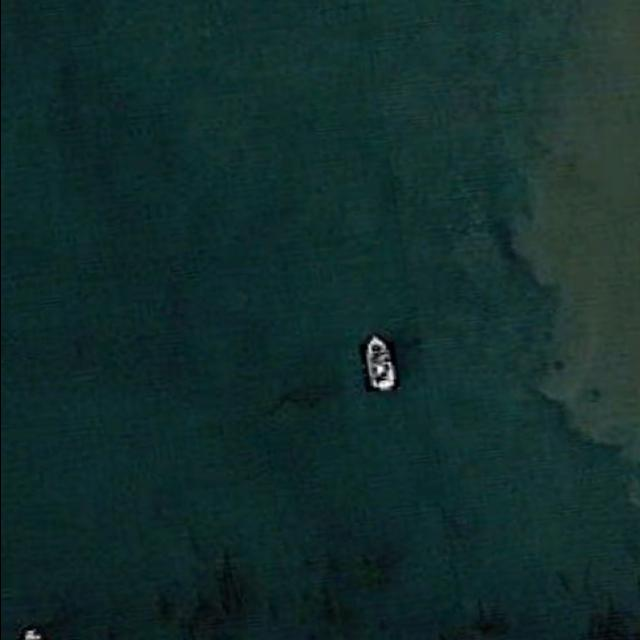ship: (362, 334, 396, 392)
